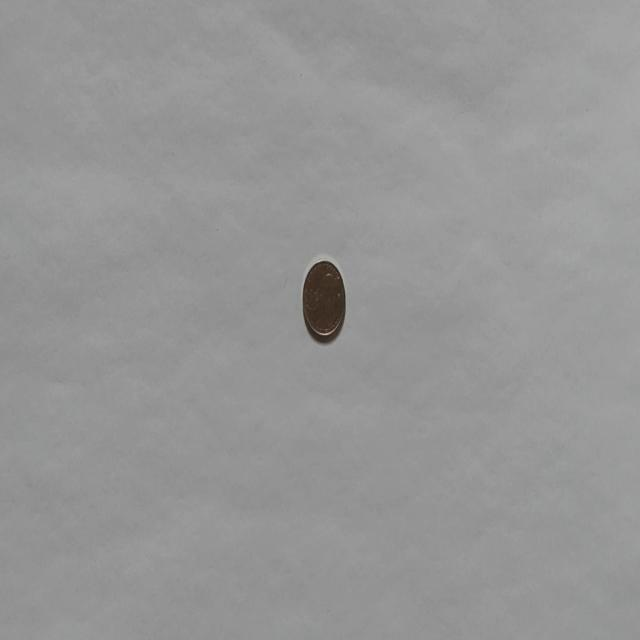seribu rupiah koin: (301, 255, 346, 342)
